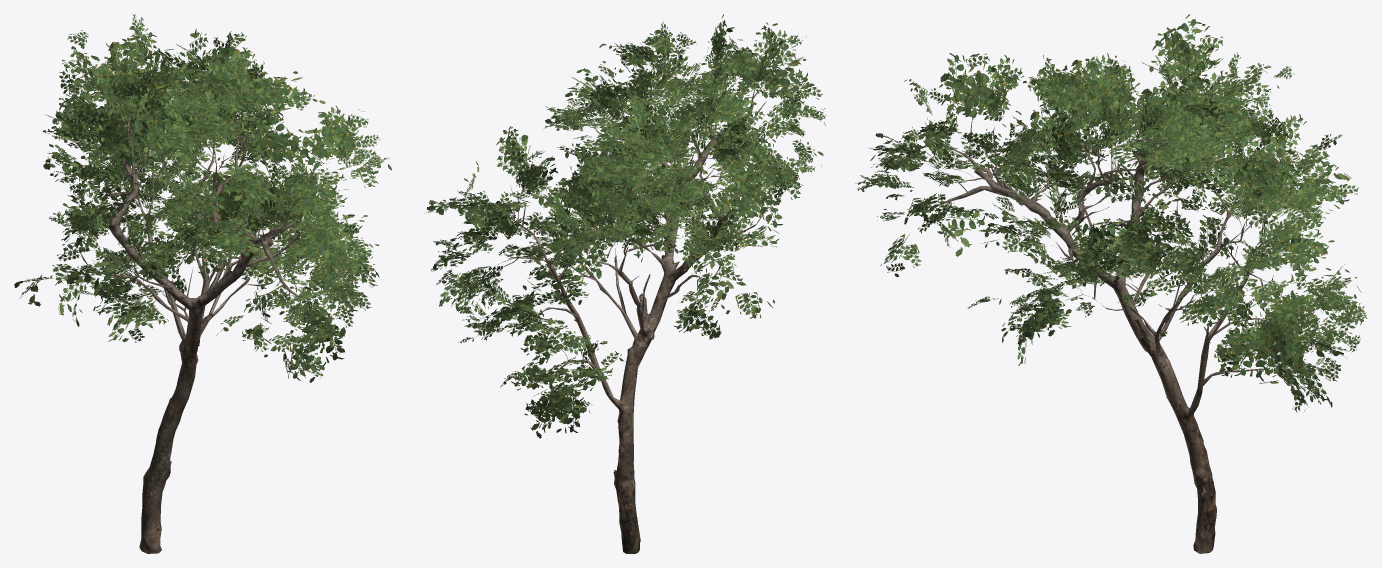
Rendered from tree_small_02.glb.
3 views of the same model, side by side, from view 1: azimuth 30°, elevation 25°; view 2: azimuth 150°, elevation 25°; view 3: azimuth 270°, elevation 25° (orthographic). The views are drawn at different scales.
Parts seen in each view (by area): view 1: tree_small_02_LOD0; view 2: tree_small_02_LOD0; view 3: tree_small_02_LOD0.
Boxes of the visible parts, left/top/right/bottom form: tree_small_02_LOD0: left=14, top=14, right=391, bottom=553; tree_small_02_LOD0: left=424, top=14, right=826, bottom=553; tree_small_02_LOD0: left=855, top=14, right=1367, bottom=553.
Bounding box in the file's own units: 2.97 × 4.61 × 4.3.
3 materials, 3 textured.
